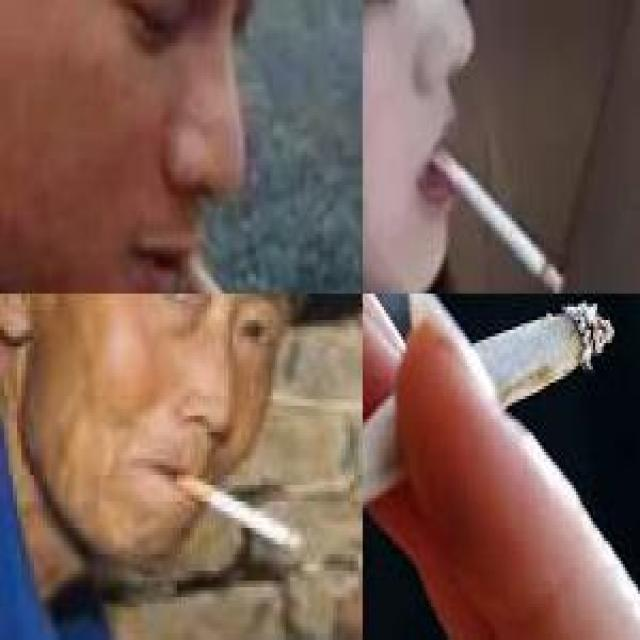smoking: (362, 300, 616, 531), (408, 126, 582, 290), (175, 472, 303, 554), (170, 248, 308, 290)
